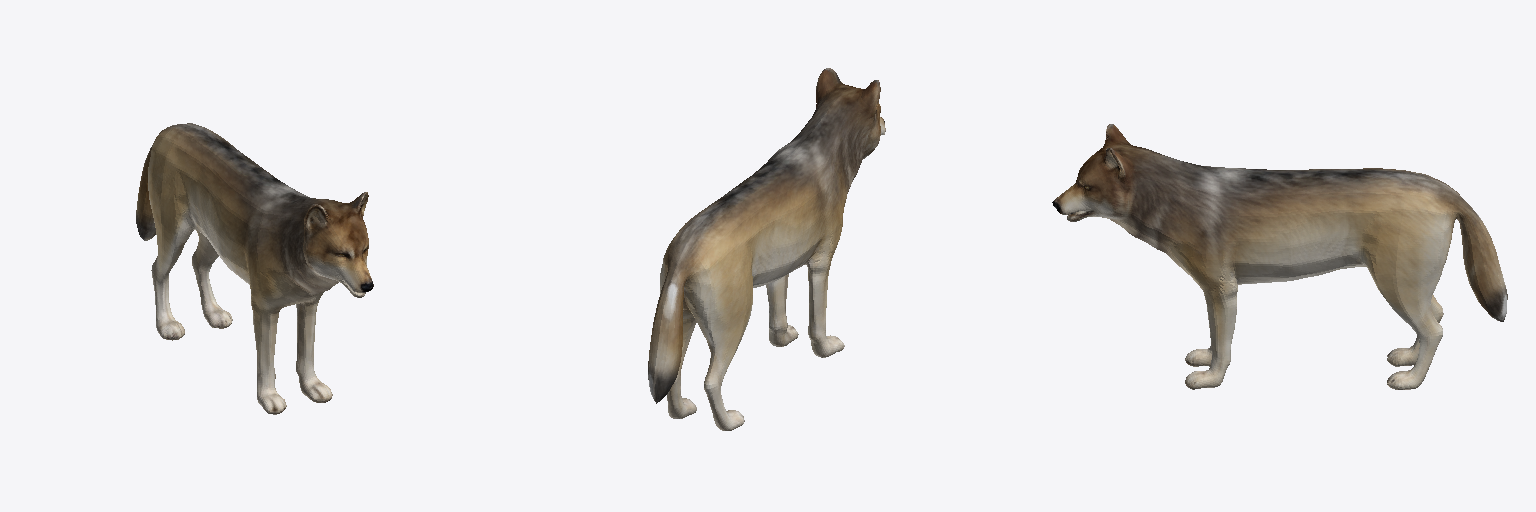
3 renders of one model, left to right at view 1: azimuth 30°, elevation 25°; view 2: azimuth 150°, elevation 25°; view 3: azimuth 270°, elevation 25°, orthographic.
Parts seen in each view (by area): view 1: Wolf_Profile_Illustra_[number redacted]; view 2: Wolf_Profile_Illustra_[number redacted]; view 3: Wolf_Profile_Illustra_[number redacted].
Part boxes in pixels (bbox=[...]): Wolf_Profile_Illustra_[number redacted]: bbox=[136, 123, 373, 414]; Wolf_Profile_Illustra_[number redacted]: bbox=[648, 68, 885, 430]; Wolf_Profile_Illustra_[number redacted]: bbox=[1052, 124, 1507, 389].
Bounding box in the file's own units: 0.3719 × 1.16 × 2.
Materials: 1 (1 with a texture image).